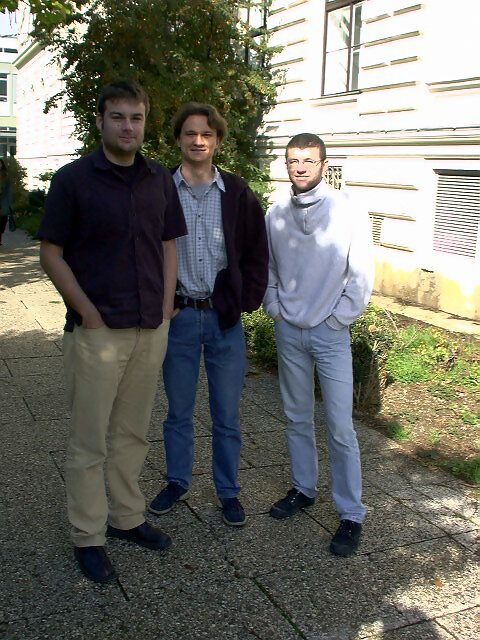person: (39, 77, 179, 590), (263, 130, 392, 561)
